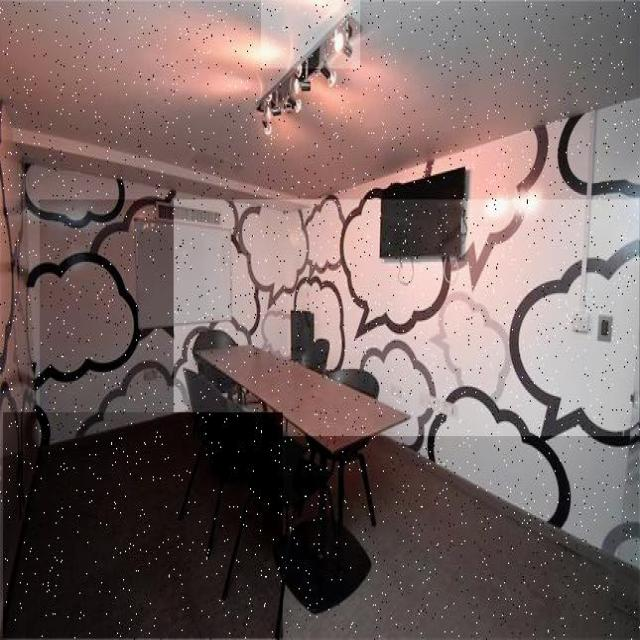Wall: (174, 101, 639, 564), (0, 2, 640, 199), (282, 436, 639, 639), (4, 414, 283, 639), (26, 169, 200, 444), (2, 101, 40, 625), (261, 1, 360, 68)
